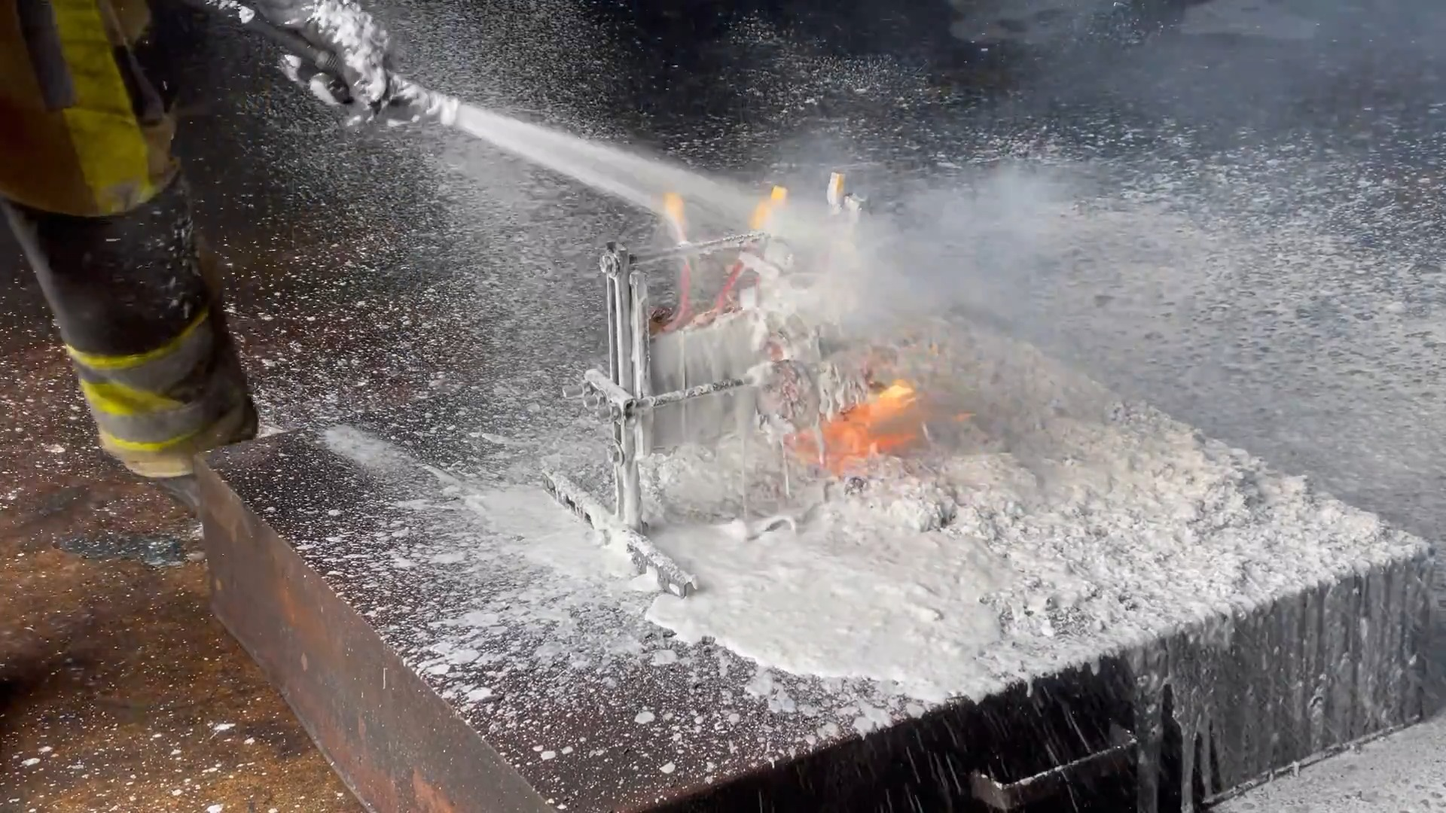fire: (778, 374, 976, 480), (748, 182, 790, 233), (660, 187, 690, 242), (825, 170, 848, 212)
